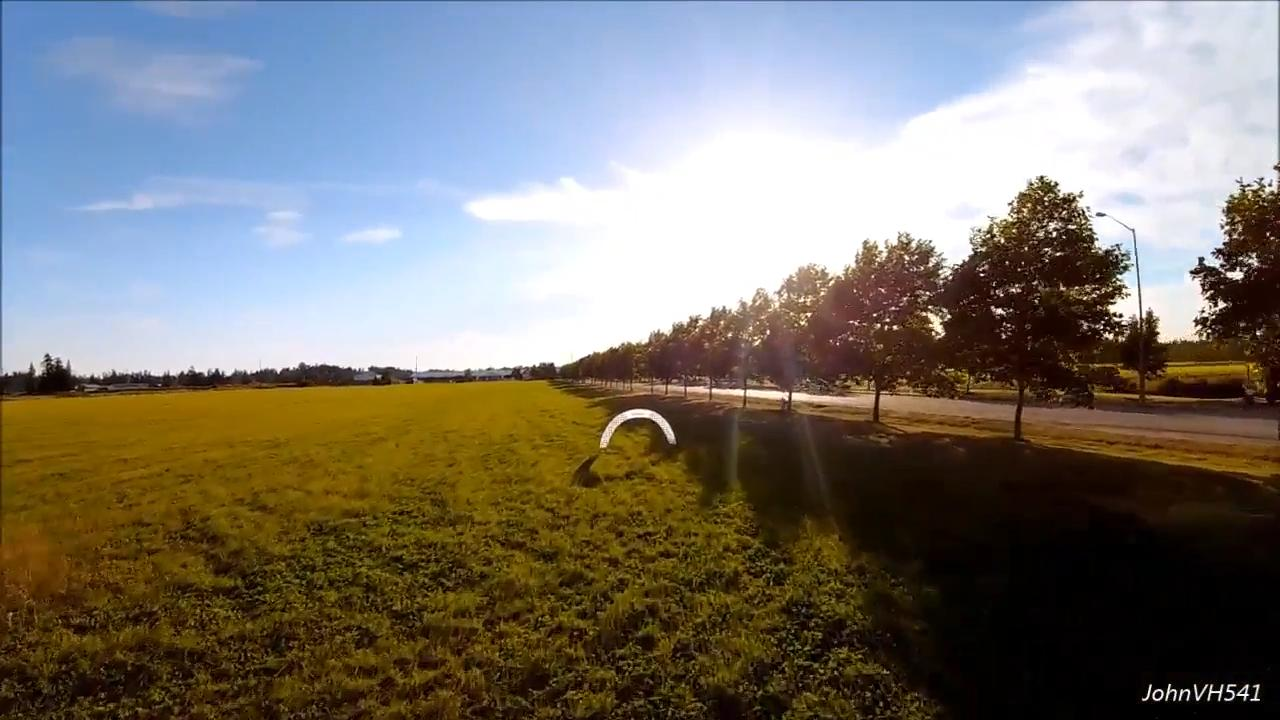gate: (598, 408, 679, 449)
